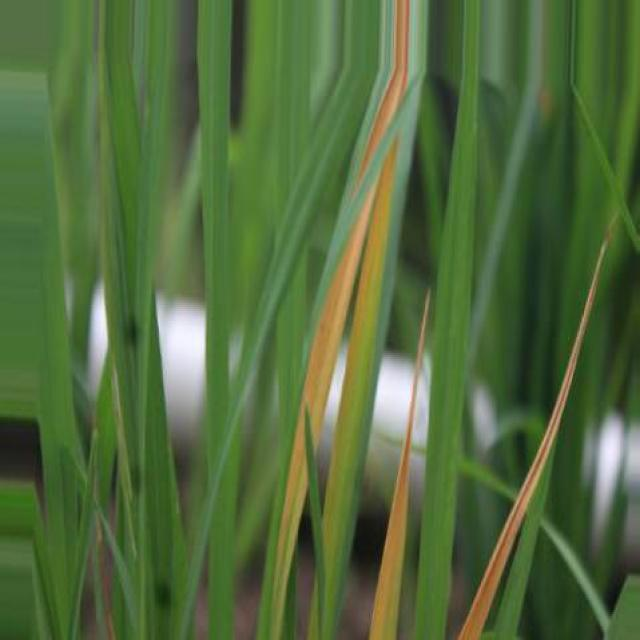Rice Tungro: (458, 236, 608, 639), (270, 193, 372, 637), (369, 291, 429, 639), (359, 0, 406, 185)
